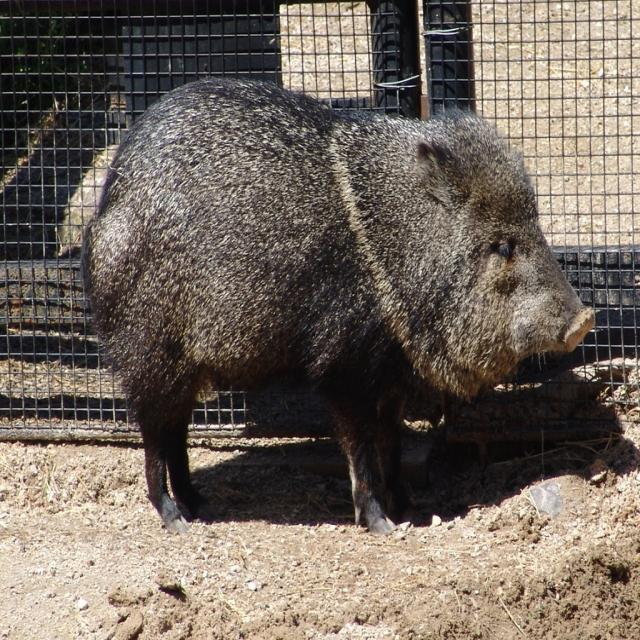Pig: (79, 76, 595, 536)
